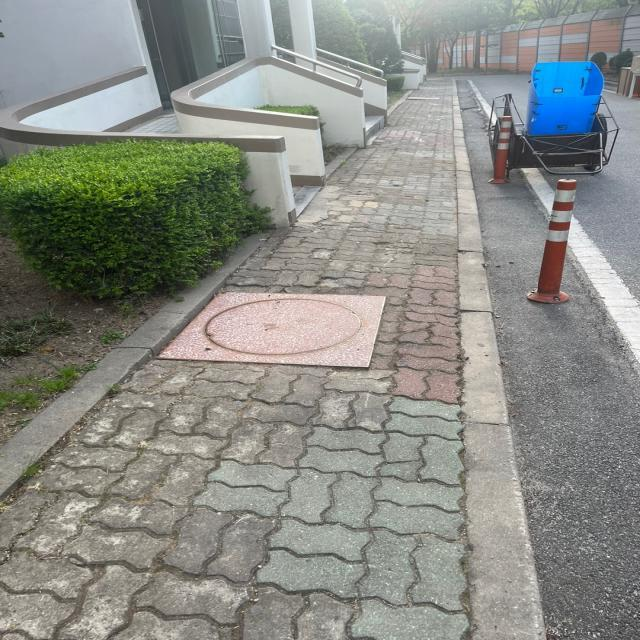Sewer Cover: (159, 292, 413, 372)
